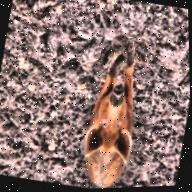boar: (71, 37, 152, 189)
